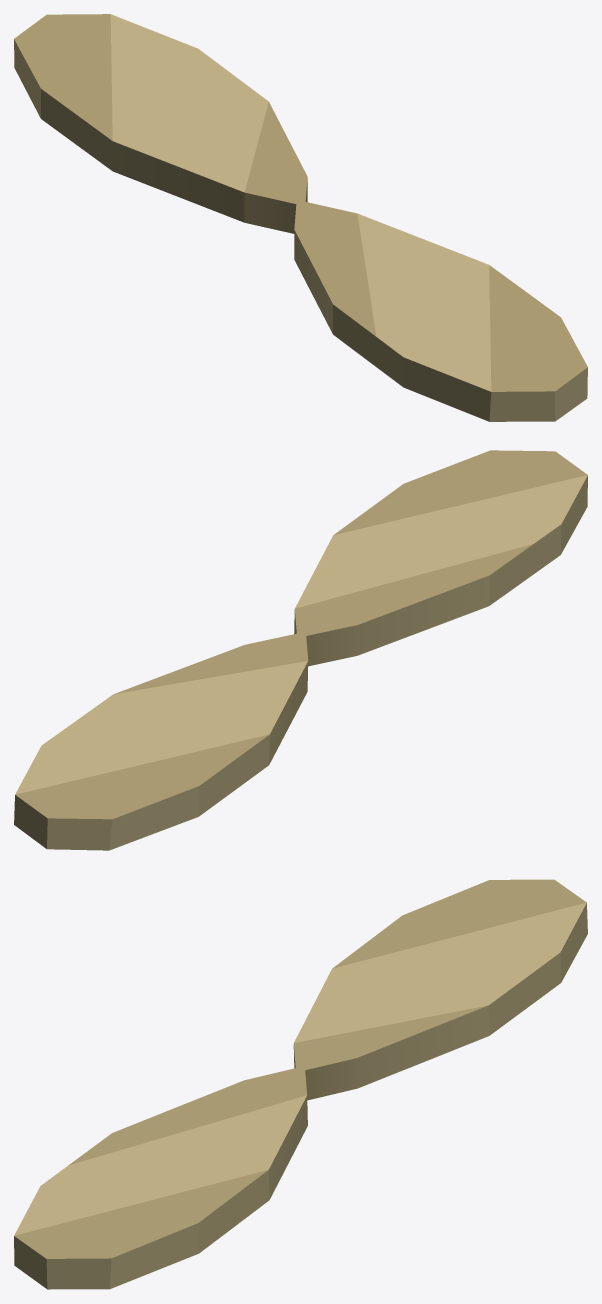
File: rookiePropellar.glb
The picture shows the model from 3 angles, top to bottom: view 1: azimuth 30°, elevation 25°; view 2: azimuth 150°, elevation 25°; view 3: azimuth 330°, elevation 25°; orthographic projection.
Parts seen in each view (by area): view 1: rookiePropellar; view 2: rookiePropellar; view 3: rookiePropellar.
Part boxes in pixels (box(x1,y1,x2,y2)): rookiePropellar: box(14, 14, 587, 421); rookiePropellar: box(14, 450, 587, 850); rookiePropellar: box(14, 879, 587, 1289).
Size of the model in its own units: 0.1018 by 0.0229 by 0.5629.
